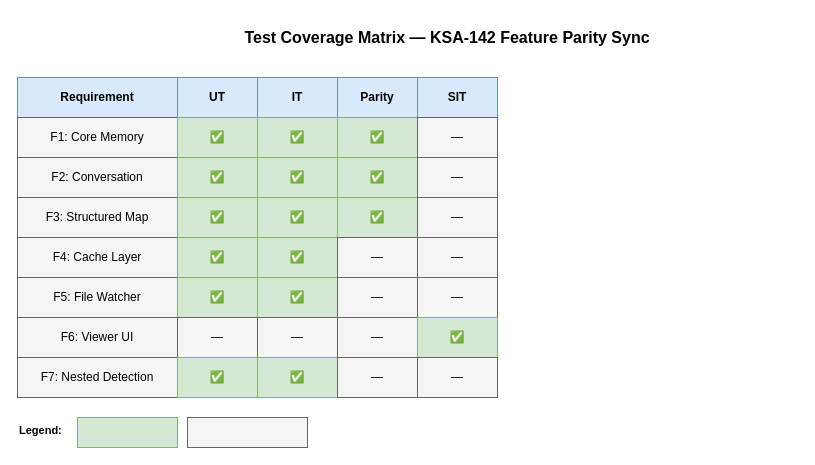
Image size: 815x465. Some labels were removed from this diagram. Each missing label, with the centre of its shape:
"— Not Applicable" goes at [247,432].
"✅ Covered" goes at [127,432].
